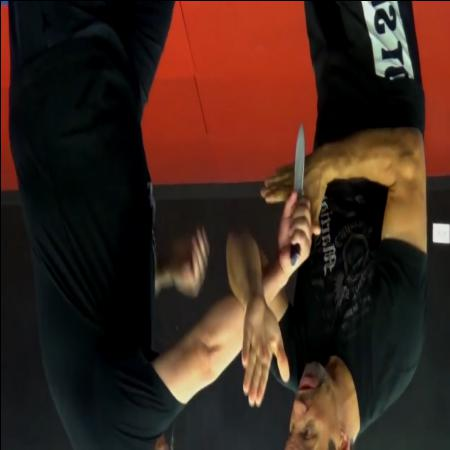long weapon: (275, 121, 311, 261)
